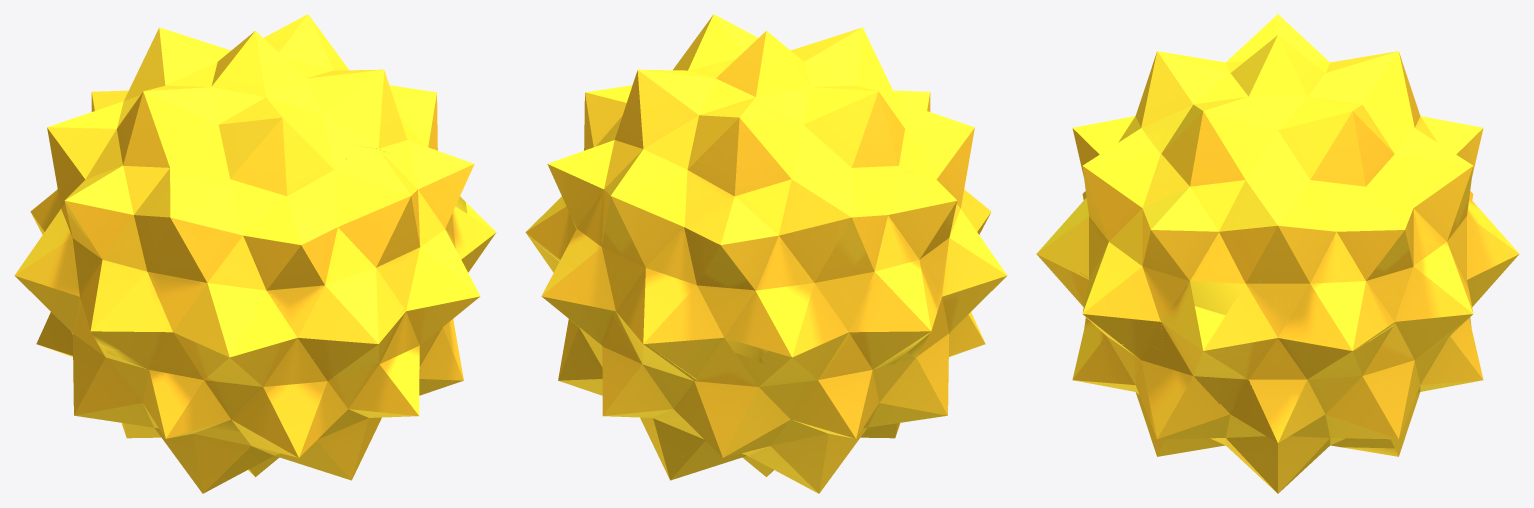
File: full-sun.glb
3 views of the same model, side by side, from view 1: azimuth 30°, elevation 25°; view 2: azimuth 150°, elevation 25°; view 3: azimuth 270°, elevation 25° (orthographic).
Visible parts, largest first — view 1: origin, sun_cell.072, sun_cell.014, sun_cell.022, sun_cell.054, sun_cell.065, sun_cell.002, sun_cell.051, sun_cell.074, sun_cell.043, sun_cell.005, sun_cell.050 (+18 smaller); view 2: origin, sun_cell.073, sun_cell.033, sun_cell.059, sun_cell.025, sun_cell.044, sun_cell.074, sun_cell.066, sun_cell.069, sun_cell.048, sun_cell.072, sun_cell.017 (+16 smaller); view 3: origin, sun_cell.075, sun_cell.018, sun_cell.046, sun_cell.045, sun_cell.040, sun_cell.010, sun_cell.009, sun_cell.008, sun_cell.061, sun_cell.047, sun_cell.039 (+12 smaller).
Boxes of the visible parts, bbox=[...] form: origin: bbox=[14, 14, 496, 493]; sun_cell.072: bbox=[65, 128, 169, 267]; sun_cell.014: bbox=[174, 129, 304, 234]; sun_cell.022: bbox=[176, 231, 242, 352]; sun_cell.054: bbox=[112, 342, 176, 426]; sun_cell.065: bbox=[246, 118, 321, 185]; sun_cell.002: bbox=[240, 237, 300, 313]; sun_cell.051: bbox=[259, 310, 338, 367]; sun_cell.074: bbox=[18, 277, 88, 408]; sun_cell.043: bbox=[132, 304, 222, 359]; sun_cell.005: bbox=[295, 353, 360, 422]; sun_cell.050: bbox=[227, 31, 314, 90]; origin: bbox=[525, 14, 1007, 493]; sun_cell.073: bbox=[721, 197, 851, 290]; sun_cell.033: bbox=[845, 329, 931, 436]; sun_cell.059: bbox=[649, 291, 762, 396]; sun_cell.025: bbox=[663, 96, 735, 226]; sun_cell.044: bbox=[581, 304, 696, 380]; sun_cell.074: bbox=[890, 301, 946, 408]; sun_cell.066: bbox=[735, 142, 848, 213]; sun_cell.069: bbox=[605, 224, 683, 267]; sun_cell.048: bbox=[714, 118, 770, 172]; sun_cell.072: bbox=[889, 112, 956, 260]; sun_cell.017: bbox=[933, 295, 977, 411]; origin: bbox=[1036, 14, 1519, 493]; sun_cell.075: bbox=[1160, 231, 1277, 367]; sun_cell.018: bbox=[1278, 246, 1440, 350]; sun_cell.046: bbox=[1389, 289, 1472, 400]; sun_cell.045: bbox=[1161, 130, 1250, 231]; sun_cell.040: bbox=[1146, 354, 1222, 439]; sun_cell.010: bbox=[1232, 188, 1298, 300]; sun_cell.009: bbox=[1275, 325, 1393, 412]; sun_cell.008: bbox=[1114, 248, 1165, 350]; sun_cell.061: bbox=[1083, 290, 1162, 350]; sun_cell.047: bbox=[1284, 216, 1371, 284]; sun_cell.039: bbox=[1214, 380, 1305, 464].
Bounding box in the file's own units: 1.23 × 1.29 × 1.29.
1 material, 1 textured.
